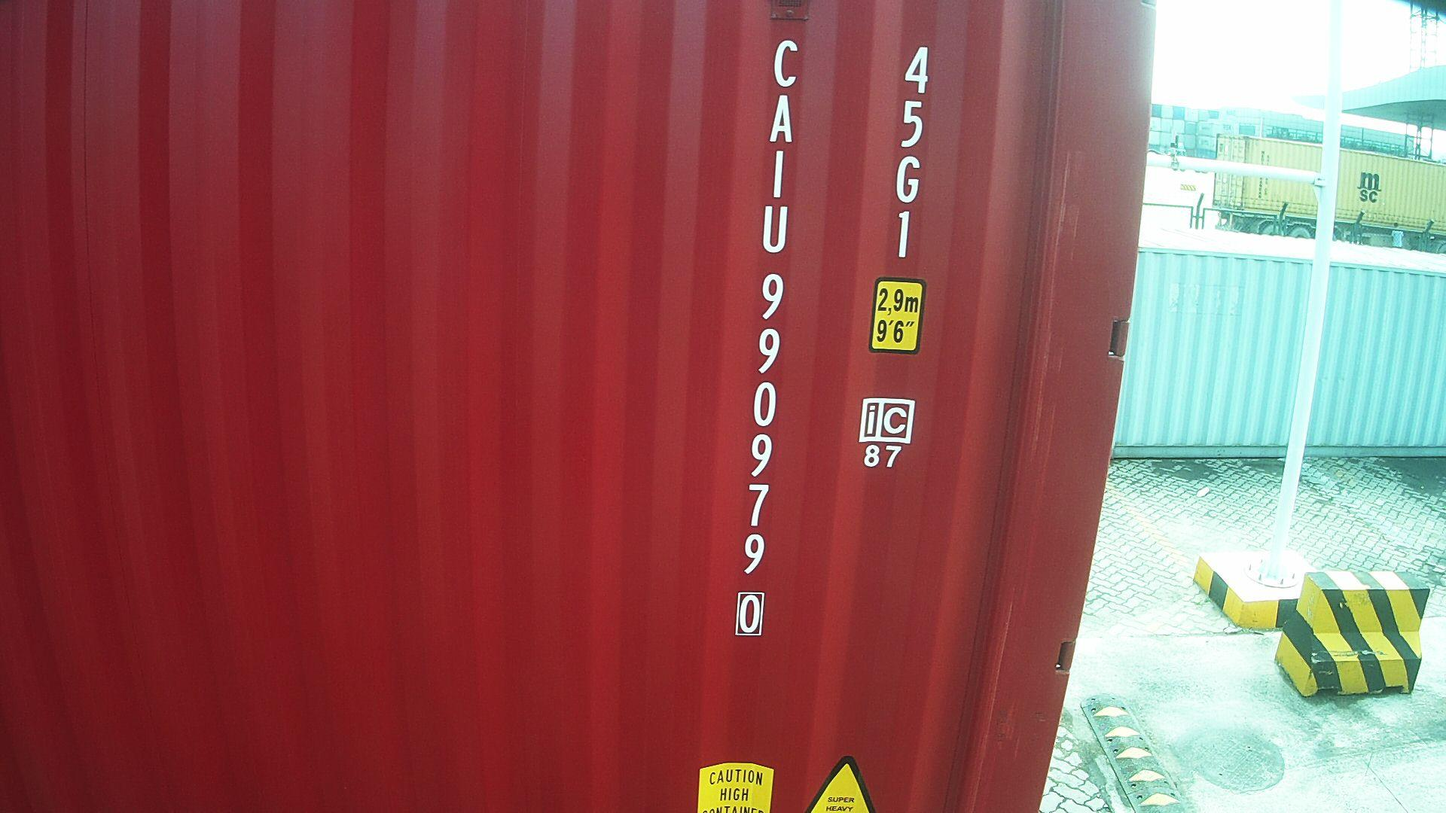container-numbers: (731, 37, 802, 640), (884, 42, 936, 262)
